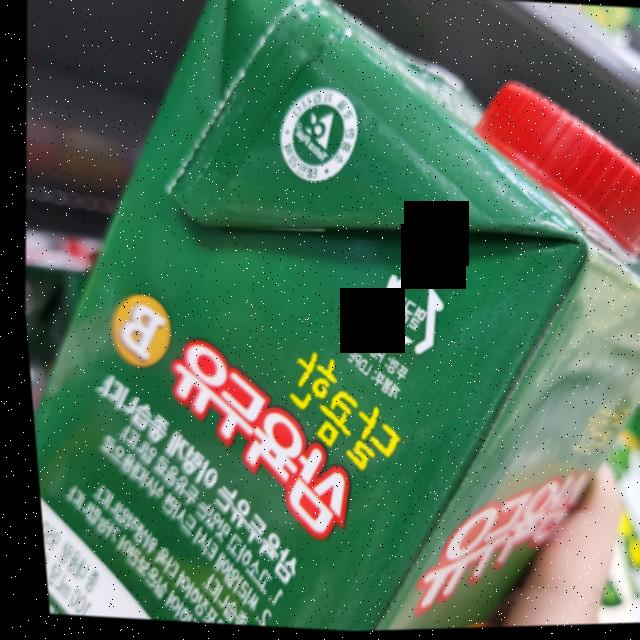SterilizedPack: (354, 255, 449, 359)
